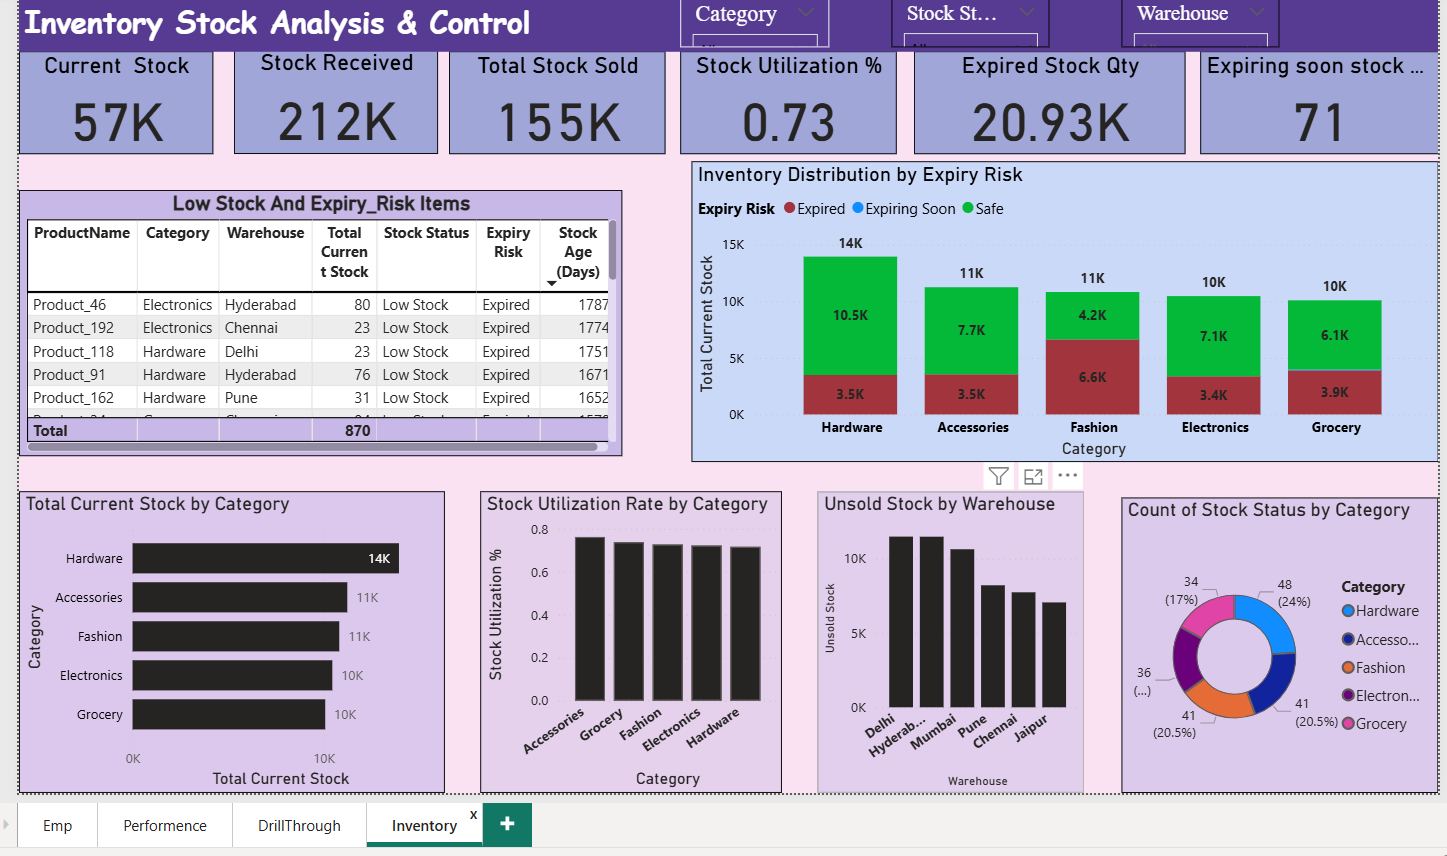

This screenshot's page, from the dashboard's own definition file:
{"tool":"powerbi","page":{"name":"Inventory ","canvas":[1280,720],"ordinal":3},"visuals":[{"type":"card","title":"Current  Stock","fields":{"Values":["Sum(Inventory_Stock.CurrentStock)"]},"box":[0,51.2,174.9,92.8],"z":0},{"type":"card","title":"Stock Received","fields":{"Values":["Inventory_Stock.Total Quantity Received"]},"box":[193.9,47.6,184.4,96.4],"z":1000},{"type":"card","title":"Total Stock Sold","fields":{"Values":["Inventory_Stock.Total Quantity Sold"]},"box":[387.8,51.2,195.1,92.8],"z":2000},{"type":"card","title":"Stock Utilization %","fields":{"Values":["Inventory_Stock.Stock Utilization %"]},"box":[596,51.2,195.1,92.8],"z":3000},{"type":"card","title":"Expired Stock Qty","fields":{"Values":["Inventory_Stock.Expired Stock Qty"]},"box":[806.5,51.2,245.1,92.8],"z":4000},{"type":"card","title":"Expiring soon stock qty","fields":{"Values":["Inventory_Stock.Expiring Soon Stock Qty"]},"box":[1064.7,51.2,215.3,92.8],"z":5000},{"type":"tableEx","title":"Low Stock And Expiry_Risk Items ","fields":{"Values":["Inventory_Stock.ProductName","Inventory_Stock.Category","Inventory_Stock.Warehouse","Inventory_Stock.Total Current Stock","Inventory_Stock.Stock Status","Inventory_Stock.Expiry Risk","Inventory_Stock.Stock Age (Days)"]},"box":[0,176,544,240],"z":6000},{"type":"clusteredBarChart","fields":{"Y":["Inventory_Stock.Total Current Stock"],"Category":["Inventory_Stock.Category"]},"box":[0,448,384,272],"z":7000},{"type":"columnChart","title":"Stock Utilization Rate by Category","fields":{"Category":["Inventory_Stock.Category"],"Y":["Inventory_Stock.Stock Utilization %"]},"box":[416,448,272,272],"z":8000},{"type":"columnChart","fields":{"Category":["Inventory_Stock.Warehouse"],"Y":["Inventory_Stock.Unsold Stock"]},"box":[720,448,240,272],"z":9000},{"type":"columnChart","title":"Inventory Distribution by Expiry Risk ","fields":{"Category":["Inventory_Stock.Category"],"Series":["Inventory_Stock.Expiry Risk"],"Y":["Inventory_Stock.Total Current Stock"]},"box":[606.7,149.9,673.3,271.2],"z":10000},{"type":"donutChart","fields":{"Y":["CountNonNull(Inventory_Stock.Stock Status)"],"Category":["Inventory_Stock.Category"]},"box":[994.5,453.2,285.5,266.5],"z":11000},{"type":"textbox","box":[0,0,1280,51.2],"z":12000},{"type":"slicer","fields":{"Values":["Inventory_Stock.Category"]},"box":[596,0,134.4,47.6],"z":13000},{"type":"slicer","fields":{"Values":["Inventory_Stock.Stock Status"]},"box":[786.3,0,142.8,47.6],"z":14000},{"type":"slicer","fields":{"Values":["Inventory_Stock.Warehouse"]},"box":[994.5,0,142.8,47.6],"z":15000}]}

Visuals, with their boxes on the page's 1280x720 design canvas (x1, y1, x2, y2). These are canvas units, not pixel positions in the 1447x856 screenshot, which may show the page scaled, cropped or inside an application window:
"Current  Stock" card: crop(0, 51, 175, 144)
"Stock Received" card: crop(194, 48, 378, 144)
"Total Stock Sold" card: crop(388, 51, 583, 144)
"Stock Utilization %" card: crop(596, 51, 791, 144)
"Expired Stock Qty" card: crop(806, 51, 1052, 144)
"Expiring soon stock qty" card: crop(1065, 51, 1280, 144)
"Low Stock And Expiry_Risk Items " tableEx: crop(0, 176, 544, 416)
clusteredBarChart - Inventory_Stock.Total Current Stock x Inventory_Stock.Category: crop(0, 448, 384, 720)
"Stock Utilization Rate by Category" columnChart: crop(416, 448, 688, 720)
columnChart - Inventory_Stock.Warehouse x Inventory_Stock.Unsold Stock: crop(720, 448, 960, 720)
"Inventory Distribution by Expiry Risk " columnChart: crop(607, 150, 1280, 421)
donutChart - CountNonNull(Inventory_Stock.Stock Status) x Inventory_Stock.Category: crop(994, 453, 1280, 720)
textbox: crop(0, 0, 1280, 51)
slicer - Inventory_Stock.Category: crop(596, 0, 730, 48)
slicer - Inventory_Stock.Stock Status: crop(786, 0, 929, 48)
slicer - Inventory_Stock.Warehouse: crop(994, 0, 1137, 48)
